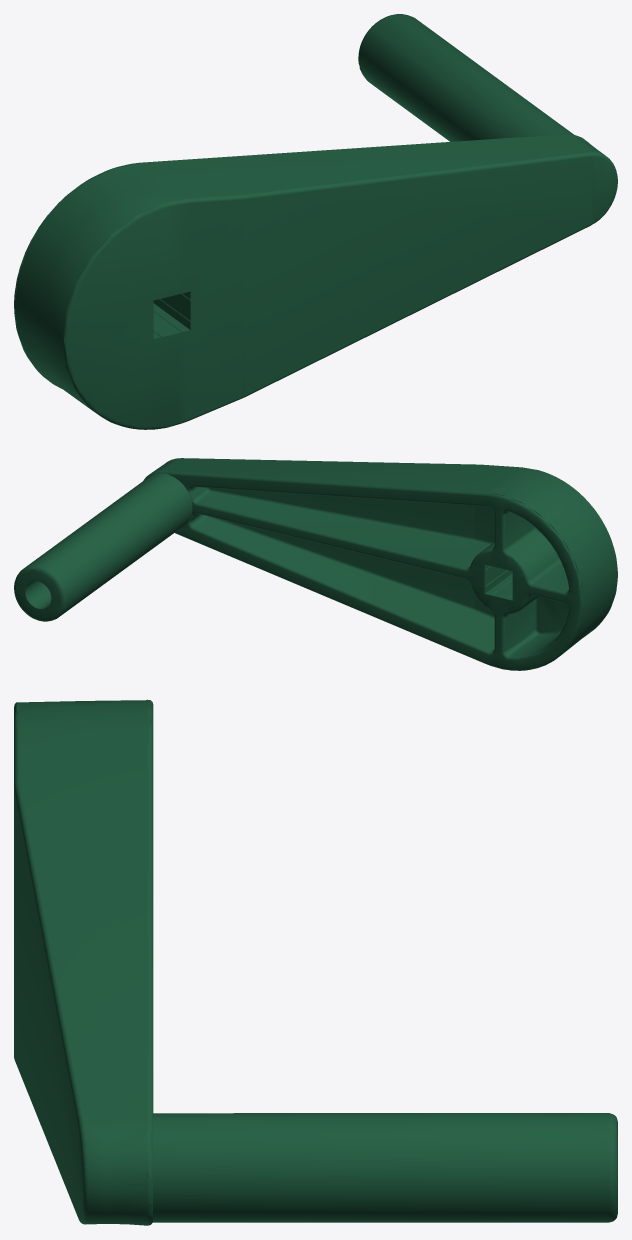
Rendered from Hand Crank (276-2045-001).glb.
3 renders of one model, top to bottom at view 1: azimuth 30°, elevation 25°; view 2: azimuth 150°, elevation 25°; view 3: azimuth 270°, elevation 25°, orthographic. The views are drawn at different scales.
Visible parts, largest first — view 1: 276-2045-001 Rev2; view 2: 276-2045-001 Rev2; view 3: 276-2045-001 Rev2.
Boxes of the visible parts, left/top/right/bottom form: 276-2045-001 Rev2: left=14, top=14, right=617, bottom=429; 276-2045-001 Rev2: left=14, top=458, right=617, bottom=670; 276-2045-001 Rev2: left=14, top=699, right=617, bottom=1225.
Bounding box in the file's own units: 0.0508 × 0.019 × 0.033.
